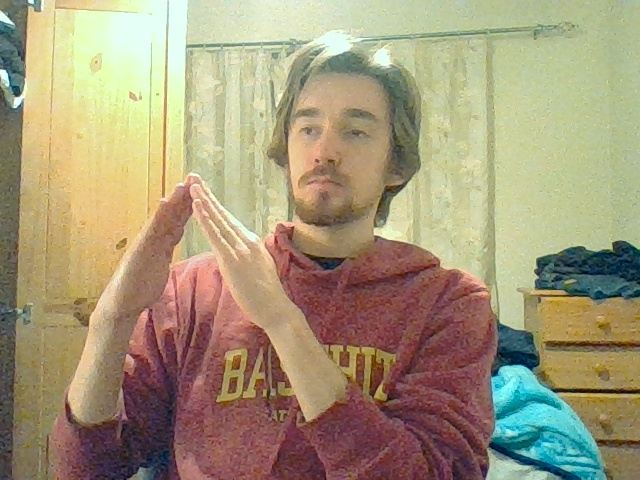home: (128, 173, 274, 292)
